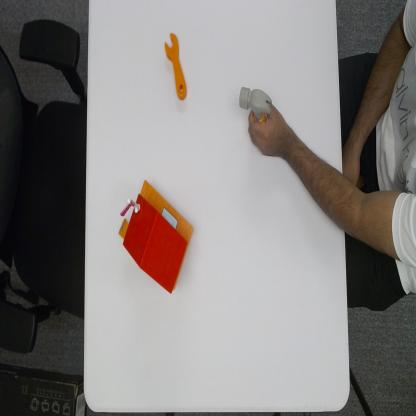Arm: (292, 130, 416, 266)
Hammer: (238, 84, 274, 126)
Hand: (248, 101, 292, 160)
House: (118, 178, 194, 297)
Screwdriver: (163, 30, 189, 103)
